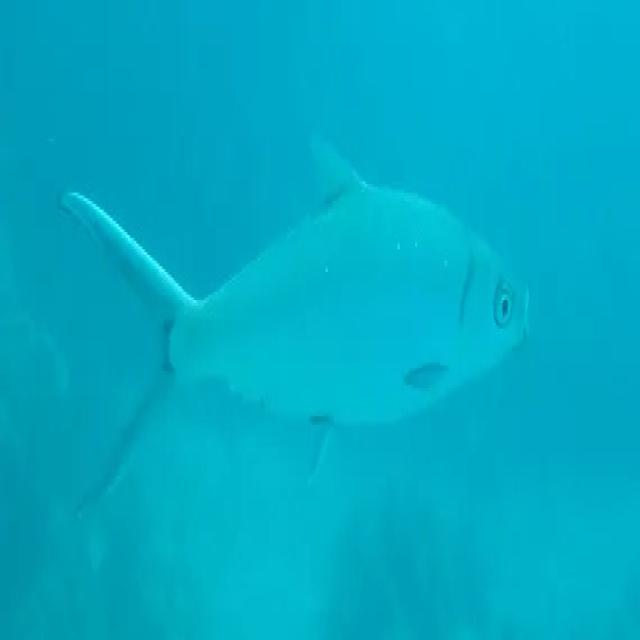Bangus: (49, 134, 585, 485)
